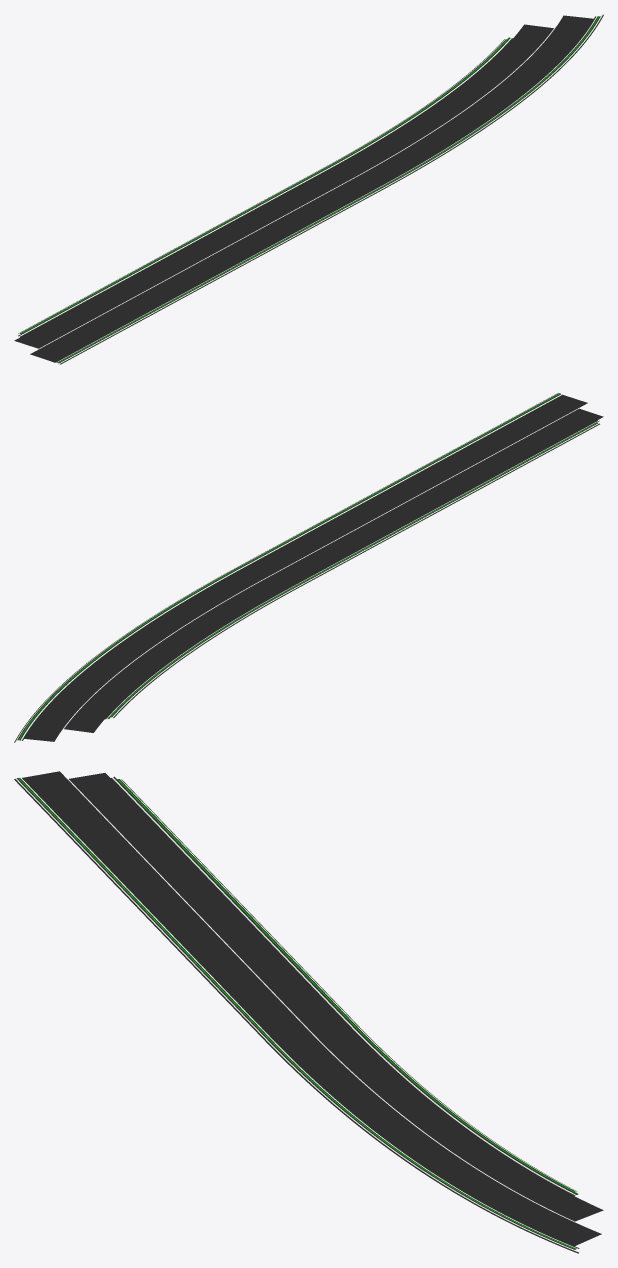
The model's file is Spa.Short.11.glb.
3 renders of one model, top to bottom at view 1: azimuth 30°, elevation 25°; view 2: azimuth 210°, elevation 25°; view 3: azimuth 270°, elevation 25°, orthographic. The views are drawn at different scales.
Parts seen in each view (by area): view 1: Track.011; view 2: Track.011; view 3: Track.011.
Boxes of the visible parts, x1,y1,x2,y2 form: Track.011: (14, 14, 603, 364); Track.011: (14, 393, 603, 742); Track.011: (14, 771, 603, 1253).
Bounding box in the file's own units: 171 × 0.1549 × 88.28.
